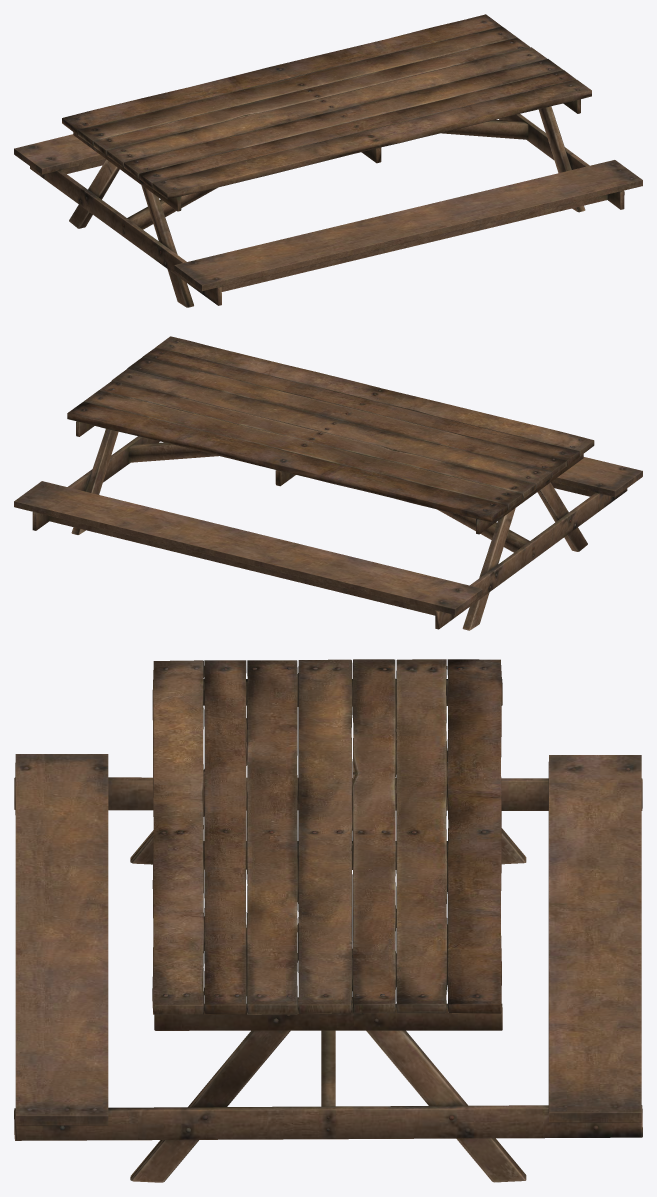
File: picnic_table.glb
The picture shows the model from 3 angles, top to bottom: view 1: azimuth 30°, elevation 25°; view 2: azimuth 150°, elevation 25°; view 3: azimuth 270°, elevation 25°; orthographic projection. The views are drawn at different scales.
Visible parts, largest first — view 1: wooden_picnic_table_w; view 2: wooden_picnic_table_w; view 3: wooden_picnic_table_w.
Boxes of the visible parts, x1,y1,x2,y2 form: wooden_picnic_table_w: (14, 14, 642, 307); wooden_picnic_table_w: (14, 336, 642, 630); wooden_picnic_table_w: (14, 659, 642, 1182).
Bounding box in the file's own units: 3.04 × 0.7499 × 2.25.
2 materials, 2 textured.
